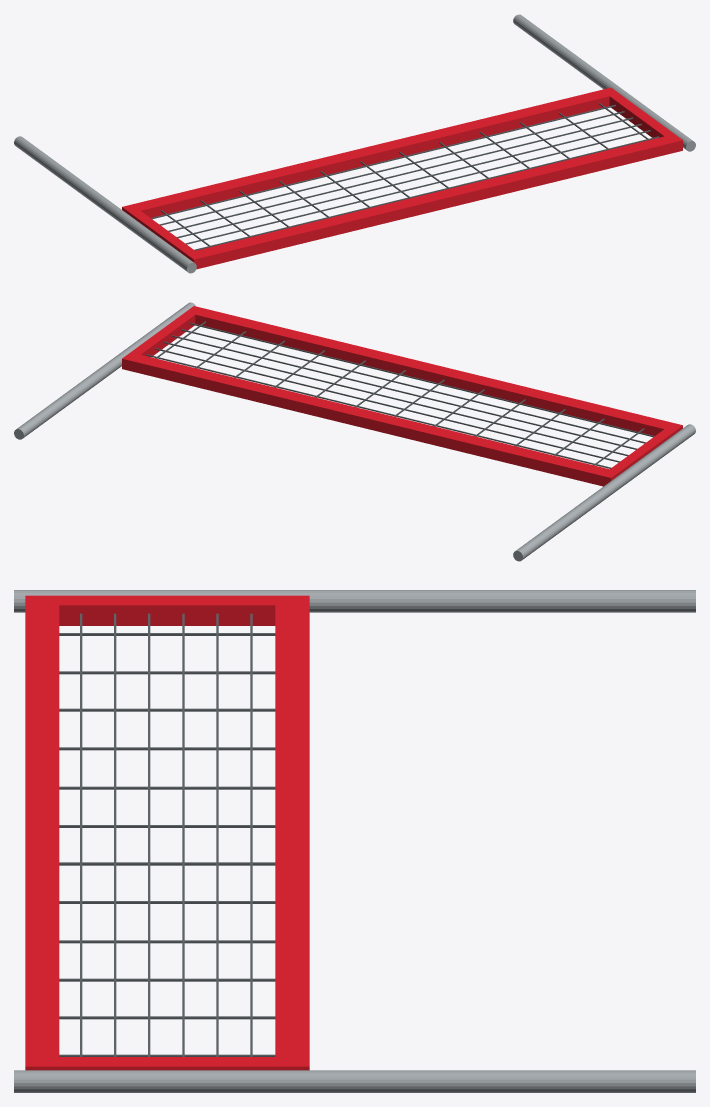
Rendered from tinker.obj.
3 renders of one model, top to bottom at view 1: azimuth 30°, elevation 25°; view 2: azimuth 150°, elevation 25°; view 3: azimuth 270°, elevation 25°, orthographic. The views are drawn at different scales.
Parts seen in each view (by area): view 1: group_0_15277357, group_0_6383466, group_0_10988977; view 2: group_0_15277357, group_0_6383466, group_0_10988977; view 3: group_0_15277357, group_0_10988977, group_0_6383466.
Part boxes in pixels (bbox=[...]): group_0_15277357: bbox=[122, 87, 682, 269]; group_0_6383466: bbox=[151, 103, 659, 250]; group_0_10988977: bbox=[14, 14, 695, 273]; group_0_15277357: bbox=[122, 306, 682, 486]; group_0_6383466: bbox=[146, 321, 654, 468]; group_0_10988977: bbox=[14, 302, 695, 561]; group_0_15277357: bbox=[25, 595, 309, 1070]; group_0_10988977: bbox=[14, 590, 695, 1092]; group_0_6383466: bbox=[59, 613, 275, 1056].
Size of the model in its own units: 51 by 1 by 30.
